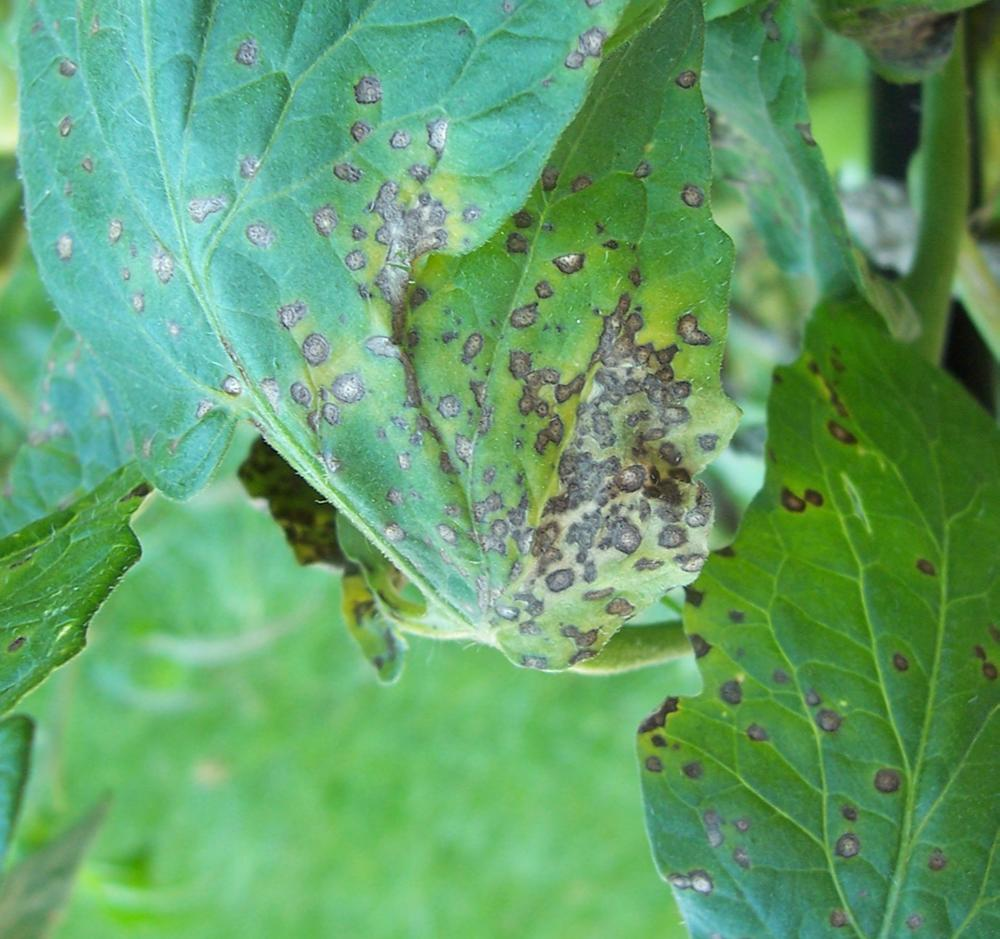Tomato Septoria leaf spot: (22, 0, 714, 679), (607, 269, 1000, 939)
